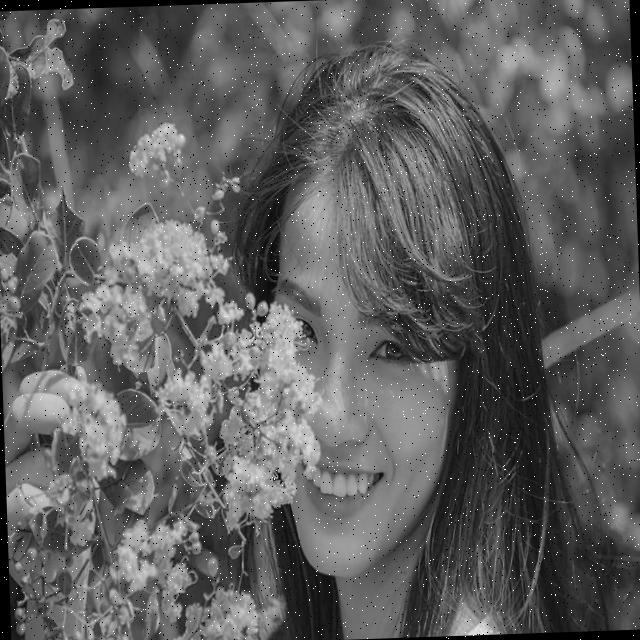Happiness: (260, 167, 468, 587)
